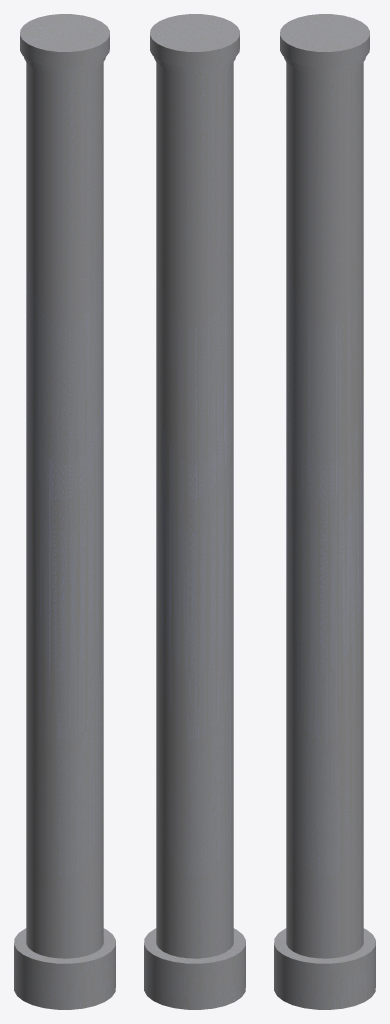
The model's file is pillar.dae.
The picture shows the model from 3 angles, left to right: view 1: azimuth 30°, elevation 25°; view 2: azimuth 210°, elevation 25°; view 3: azimuth 330°, elevation 25°; orthographic projection.
Visible parts, largest first — view 1: SketchUp (×5); view 2: SketchUp (×5); view 3: SketchUp (×5).
Boxes of the visible parts, x1,y1,x2,y2 form: SketchUp (×5): (14, 14, 115, 1009); SketchUp (×5): (144, 14, 245, 1009); SketchUp (×5): (274, 14, 375, 1009).
Size of the model in its own units: 18.98 by 18.98 by 196.
